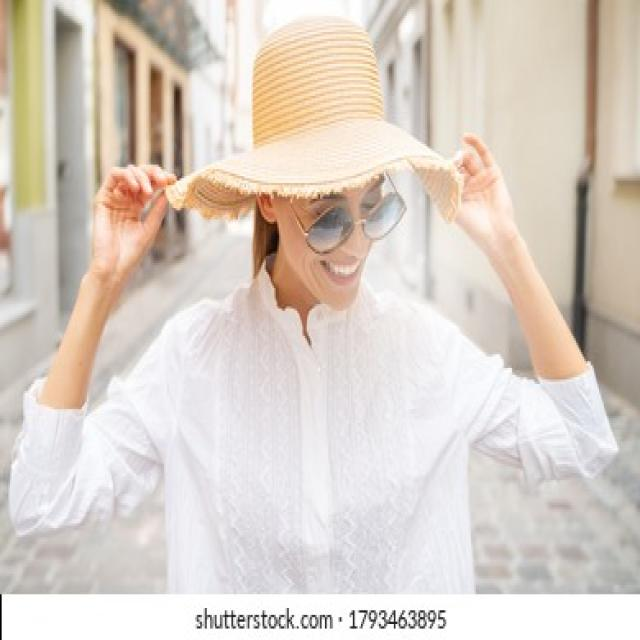hat: (164, 16, 463, 309)
